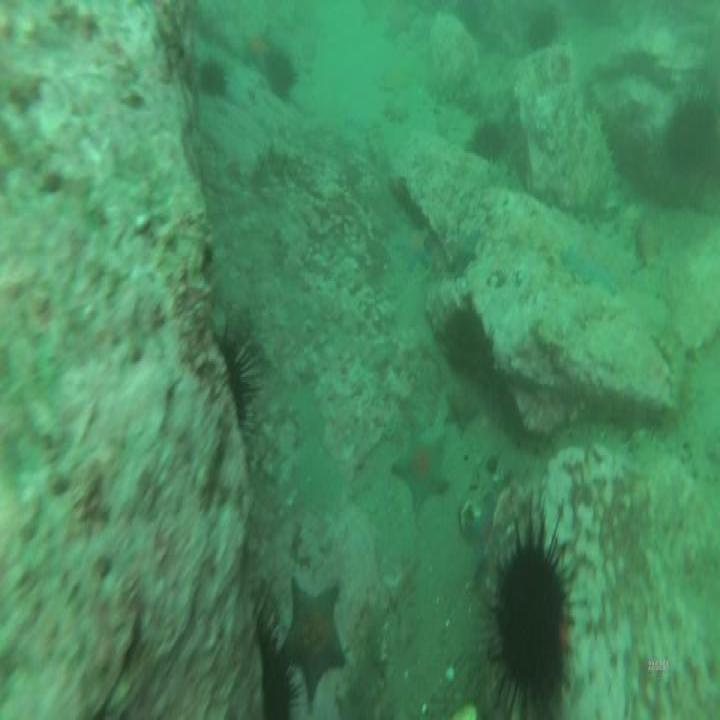echinus: (495, 528, 565, 709), (671, 94, 717, 172), (474, 119, 506, 158), (268, 47, 295, 92), (200, 57, 228, 99)
scallop: (460, 496, 482, 539)
starfish: (281, 581, 347, 699), (393, 425, 449, 507), (559, 242, 615, 292), (393, 222, 431, 272), (447, 228, 480, 270)
